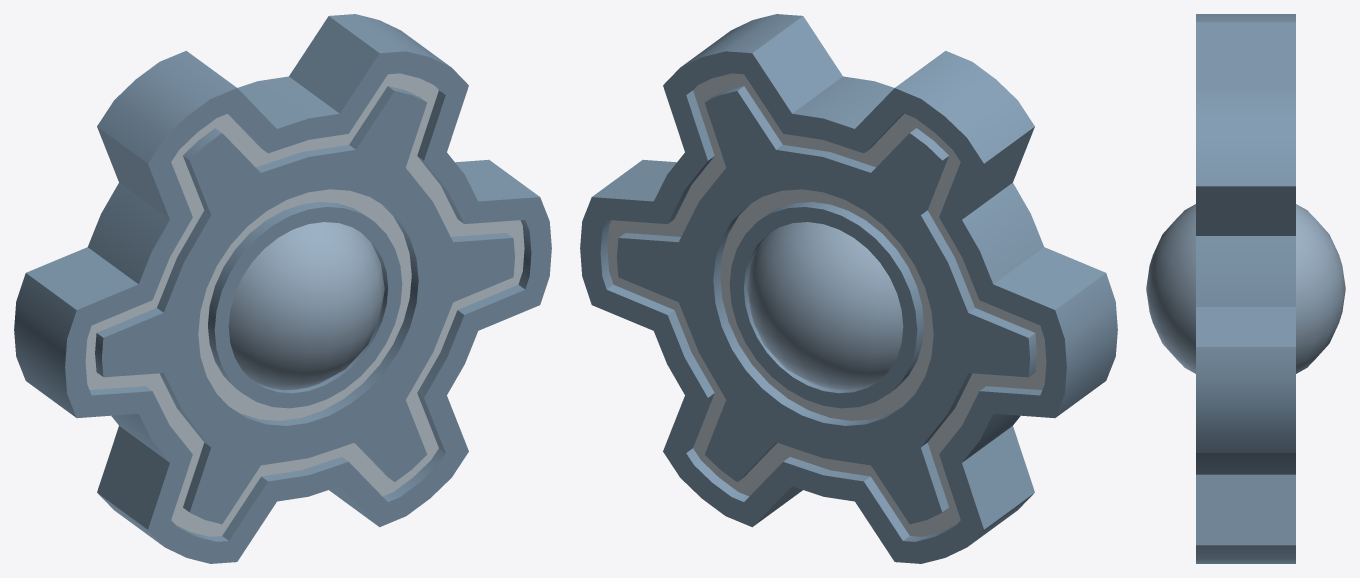
Rendered from Cogwheel B Multi.fbx.
The picture shows the model from 3 angles, left to right: view 1: azimuth 30°, elevation 25°; view 2: azimuth 150°, elevation 25°; view 3: azimuth 270°, elevation 25°; orthographic projection.
Visible parts, largest first — view 1: Cogwheel B; view 2: Cogwheel B; view 3: Cogwheel B.
Boxes of the visible parts, <box> form: Cogwheel B: <box>14,14,551,563</box>; Cogwheel B: <box>580,14,1117,563</box>; Cogwheel B: <box>1146,14,1345,563</box>.
Size of the model in its own units: 1.07 by 0.9978 by 0.3881.
